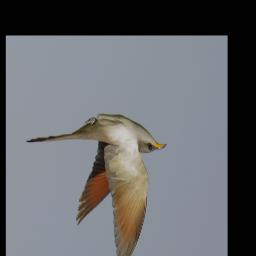Cuckoo: (26, 115, 166, 256)
